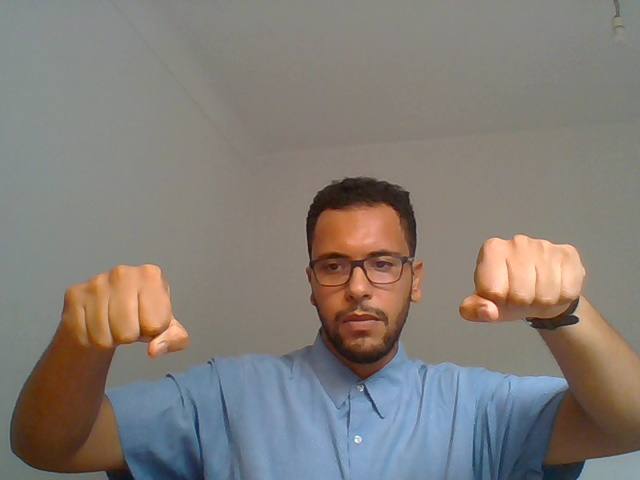yes: (34, 224, 210, 415), (439, 205, 604, 391)
